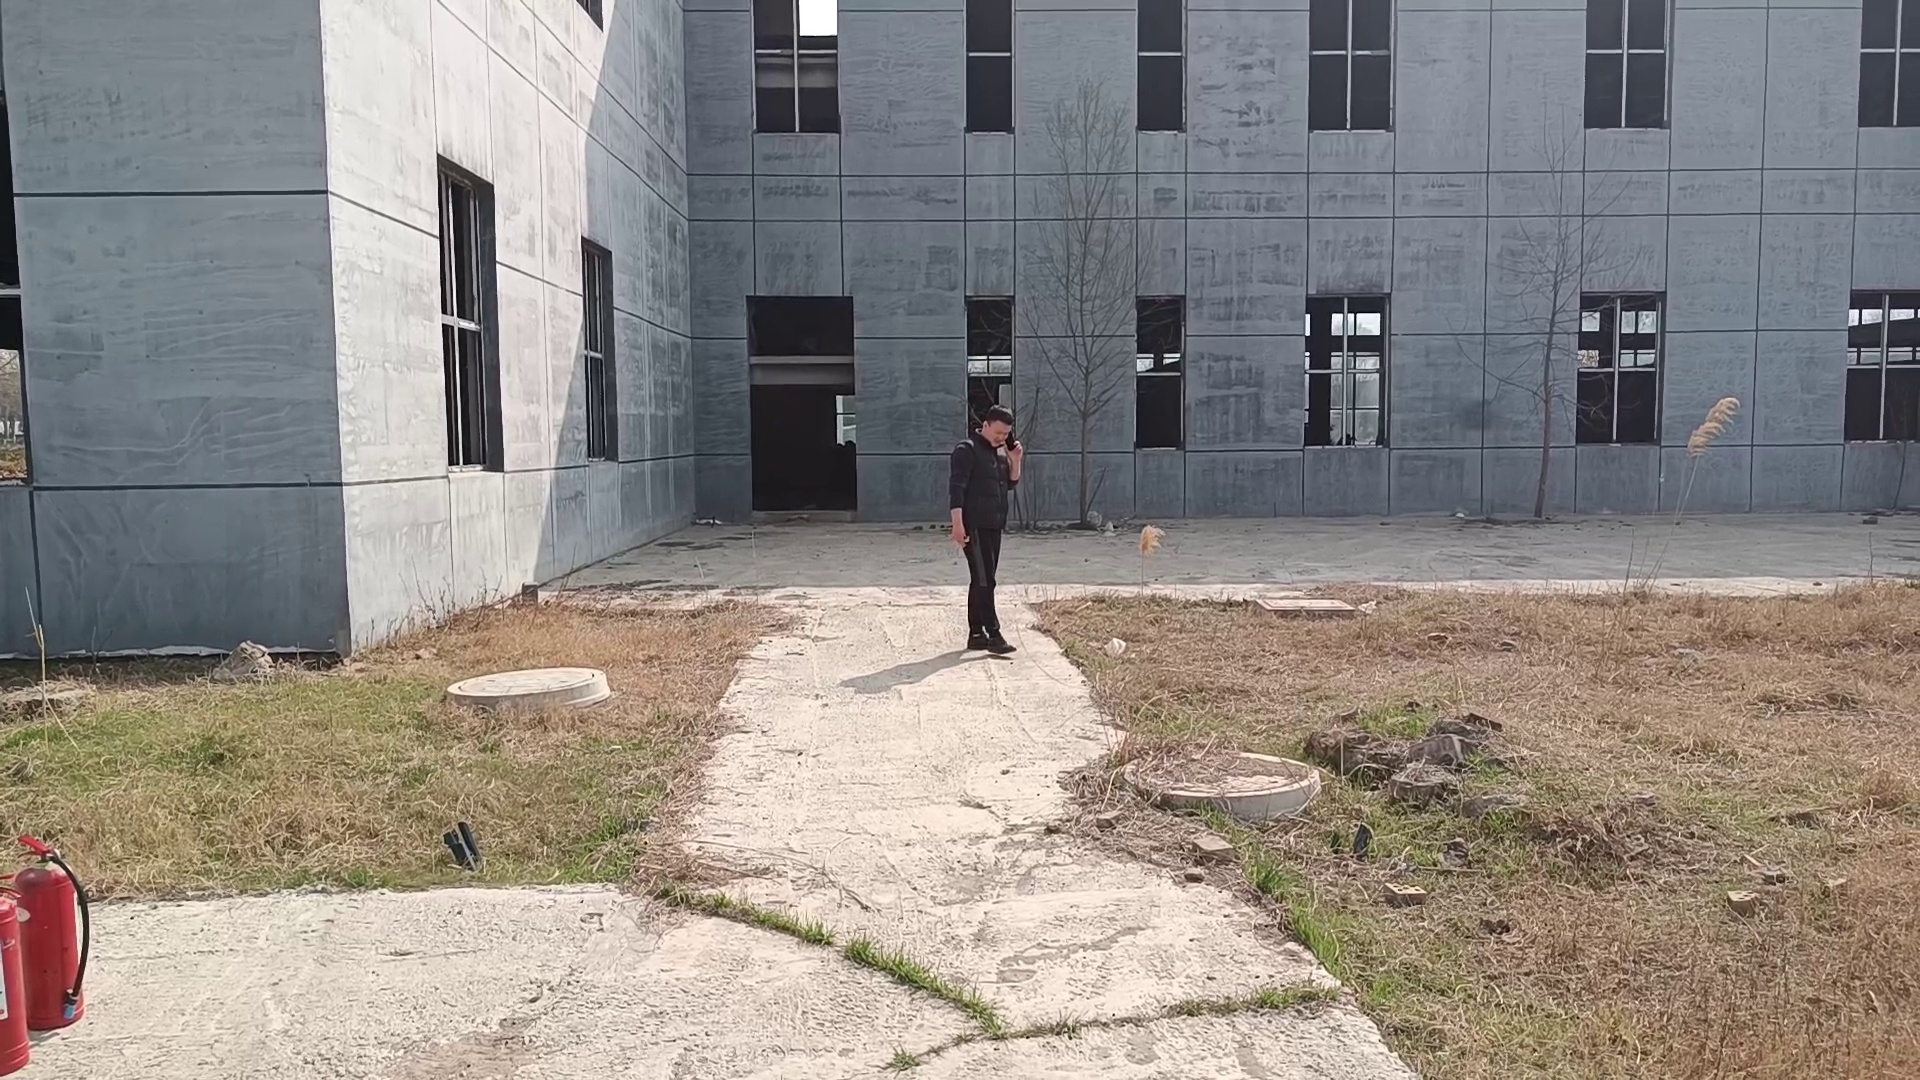phone: (971, 396, 1025, 467)
